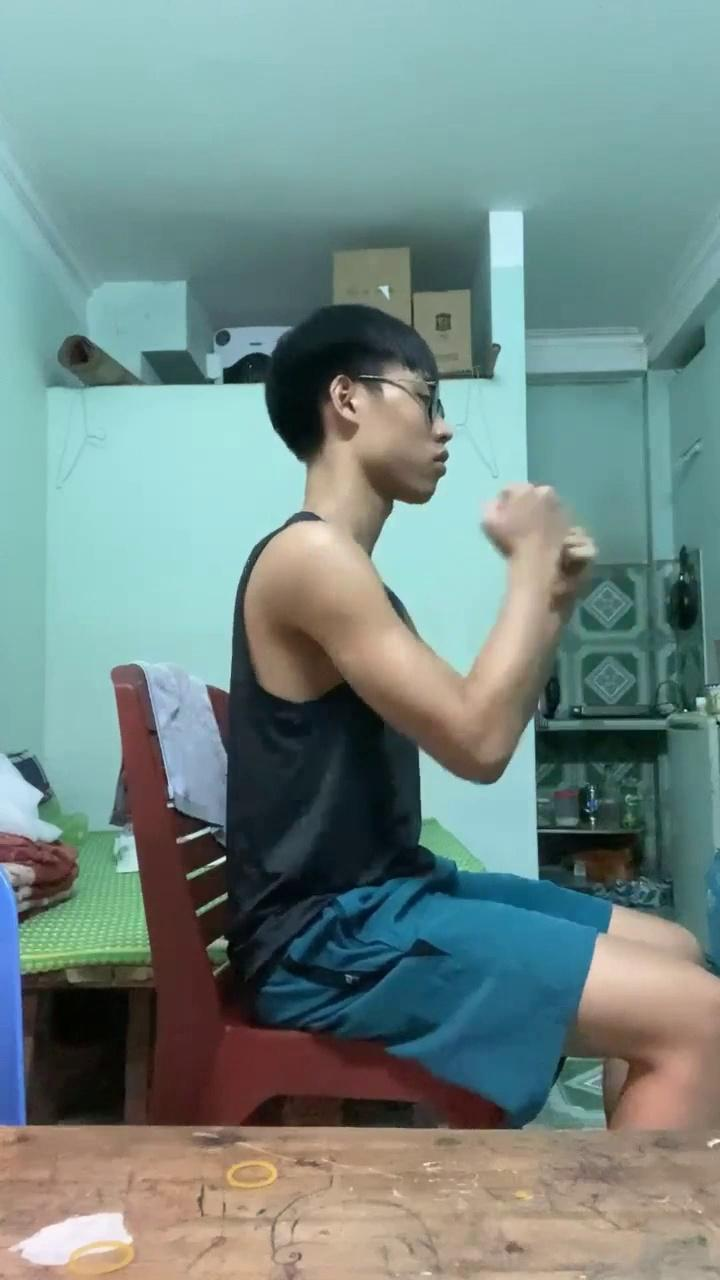GoodPosture: (227, 304, 719, 1130), (0, 138, 84, 310)
